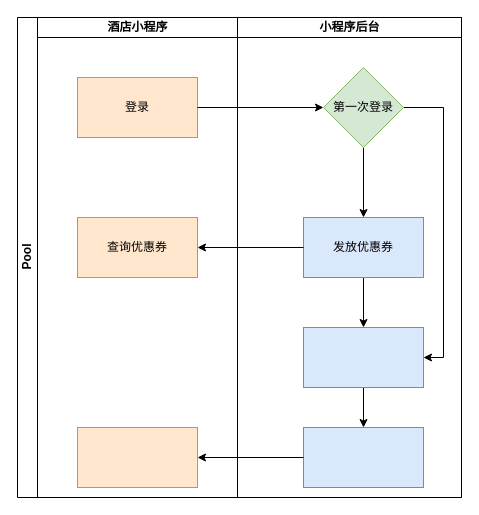
Some shapes in this 479 by 515 pixel diagram are drawn without their labels. The box of each missing label's shape, as (x1, y1, x2, y2) in pixels:
获取登录结果: (76, 426, 198, 488)
返回登录结果: (302, 426, 424, 488)
验证登录信息: (302, 326, 424, 388)
